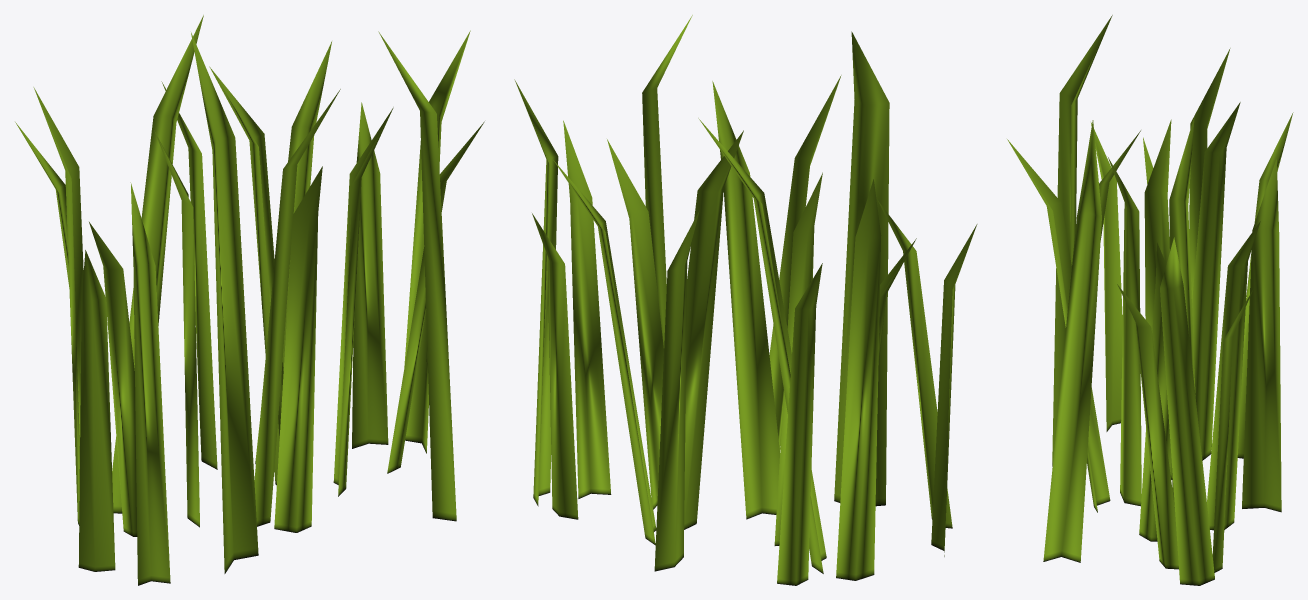
The model's file is ReedBigTropical.fbx.
3 views of the same model, side by side, from view 1: azimuth 30°, elevation 25°; view 2: azimuth 150°, elevation 25°; view 3: azimuth 270°, elevation 25° (orthographic). The views are drawn at different scales.
Parts seen in each view (by area): view 1: pPlane100; view 2: pPlane100; view 3: pPlane100.
Part boxes in pixels (box(x1,y1,x2,y2)): pPlane100: box(15, 15, 484, 585); pPlane100: box(514, 15, 977, 585); pPlane100: box(1007, 15, 1293, 585).
Size of the model in its own units: 0.0222 by 0.0145 by 0.0253.
